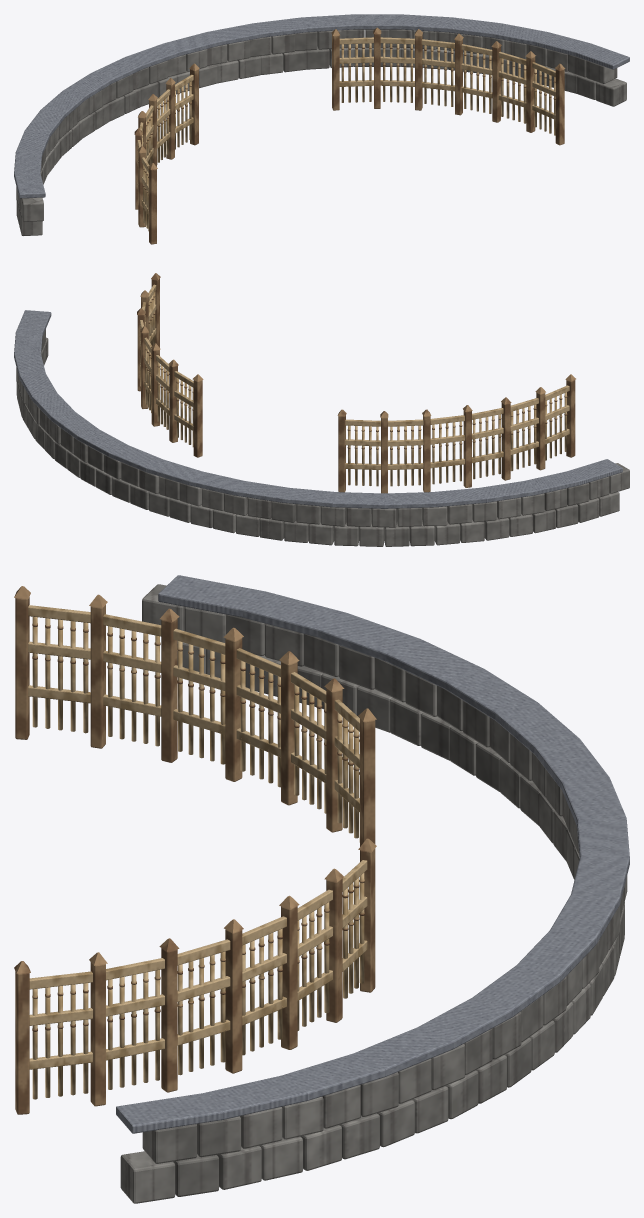
The model's file is stage_fence_overdare.fbx.
3 views of the same model, one above another, from view 1: azimuth 30°, elevation 25°; view 2: azimuth 150°, elevation 25°; view 3: azimuth 270°, elevation 25° (orthographic). The views are drawn at different scales.
Visible parts, largest first — view 1: stage_fence; view 2: stage_fence; view 3: stage_fence.
Part boxes in pixels (<box>): stage_fence: <box>14,14,629,244</box>; stage_fence: <box>14,273,629,546</box>; stage_fence: <box>14,575,629,1203</box>.
Bounding box in the file's own units: 1626 × 212 × 766.
1 material, 1 textured.
